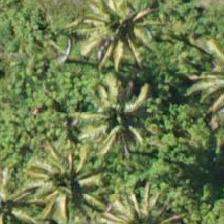coconut_tree: (73, 72, 163, 162), (18, 137, 108, 223), (74, 0, 164, 75), (0, 156, 47, 223)
